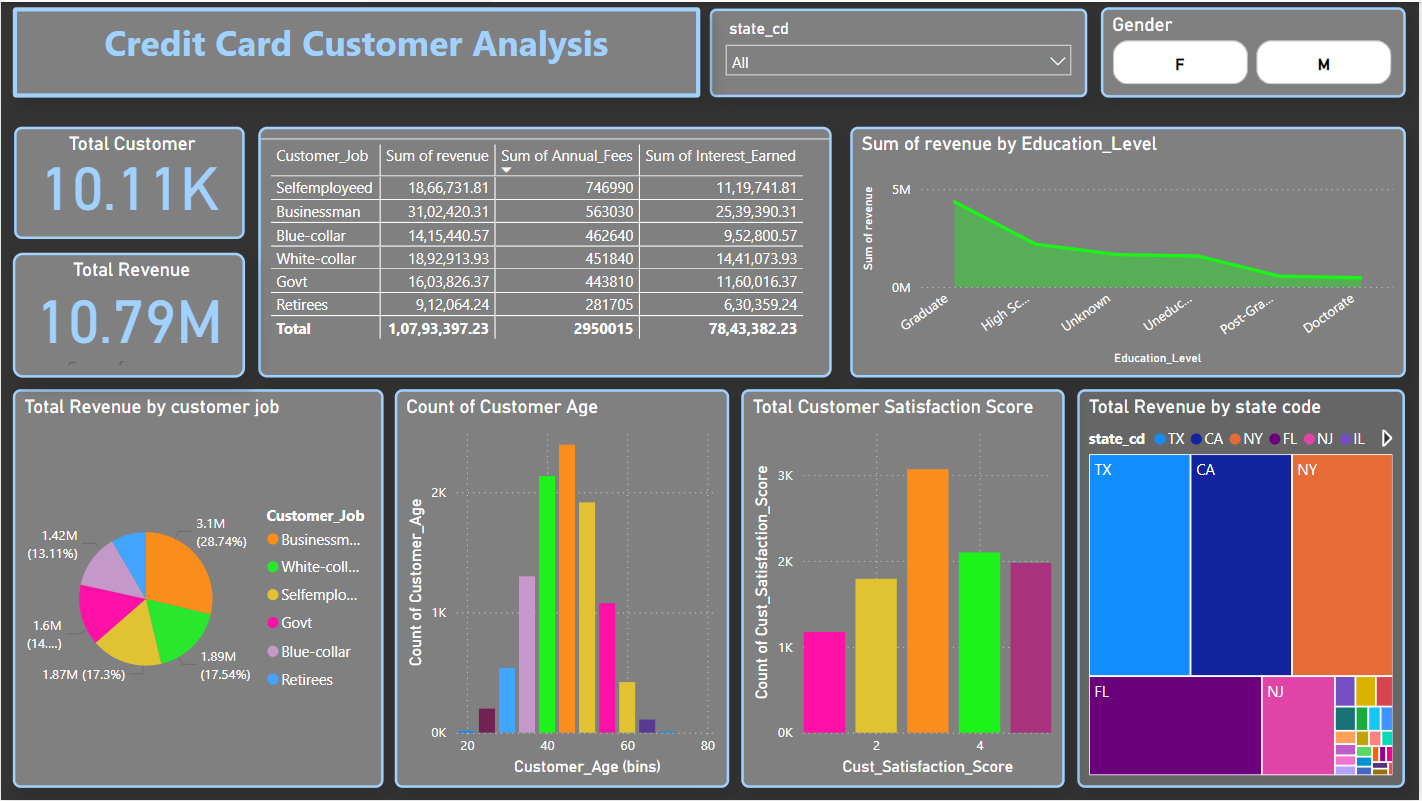

The page's visual inventory and layout, read from the dashboard file:
{"tool":"powerbi","page":{"name":"Page 1","canvas":[1280,720],"ordinal":0},"visuals":[{"type":"stackedAreaChart","fields":{"Category":["customer.Education_Level"],"Y":["Sum(credit_card.revenue)"]},"box":[766,113,501.3,226.1],"z":0},{"type":"tableEx","fields":{"Values":["customer.Customer_Job","Sum(credit_card.revenue)","Sum(credit_card.Annual_Fees)","Sum(credit_card.Interest_Earned)"]},"box":[232,113,517.6,226.1],"z":1000},{"type":"treemap","title":"Total Revenue by state code","fields":{"Group":["customer.state_cd"],"Values":["Sum(credit_card.revenue)"]},"box":[971.3,349.5,296,360],"z":2000},{"type":"pieChart","title":"Total Revenue by customer job","fields":{"Category":["customer.Customer_Job"],"Y":["Sum(credit_card.revenue)"]},"box":[10.4,349.5,334.7,360],"z":3000},{"type":"columnChart","title":"Count of Customer Age","fields":{"Y":["CountNonNull(customer.Customer_Age)"],"Category":["customer.Customer_Age (bins)"]},"box":[355.5,349.5,301.9,360],"z":4000},{"type":"lineClusteredColumnComboChart","title":"Total Customer Satisfaction Score","fields":{"Category":["customer.Cust_Satisfaction_Score"],"Y":["CountNonNull(customer.Cust_Satisfaction_Score)"]},"box":[667.8,349.5,291.5,360],"z":5000},{"type":"slicer","fields":{"Values":["customer.state_cd"]},"box":[639.6,5.9,340.6,80.3],"z":6000},{"type":"advancedSlicerVisual","fields":{"Values":["customer.Gender"]},"box":[992.1,4.5,275.2,81.8],"z":7000},{"type":"textbox","box":[10.4,4.5,620.2,81.8],"z":8000},{"type":"card","title":"Total Customer","fields":{"Values":["CountNonNull(credit_card.revenue)"]},"box":[11.9,113,208.2,101.1],"z":9000},{"type":"card","title":"Total Revenue","fields":{"Values":["Sum(credit_card.revenue)"]},"box":[10.4,226.1,209.7,113],"z":10000}]}

Visuals, with their boxes in screenshot pixels (x1, y1, x2, y2), scaled from the page's 1280x720 canvas onto the 1422x801 screenshot:
stackedAreaChart - customer.Education_Level x Sum(credit_card.revenue): {"left": 851, "top": 126, "right": 1408, "bottom": 377}
tableEx - customer.Customer_Job x Sum(credit_card.revenue): {"left": 258, "top": 126, "right": 833, "bottom": 377}
"Total Revenue by state code" treemap: {"left": 1079, "top": 389, "right": 1408, "bottom": 789}
"Total Revenue by customer job" pieChart: {"left": 12, "top": 389, "right": 383, "bottom": 789}
"Count of Customer Age" columnChart: {"left": 395, "top": 389, "right": 730, "bottom": 789}
"Total Customer Satisfaction Score" lineClusteredColumnComboChart: {"left": 742, "top": 389, "right": 1066, "bottom": 789}
slicer - customer.state_cd: {"left": 711, "top": 7, "right": 1089, "bottom": 96}
advancedSlicerVisual - customer.Gender: {"left": 1102, "top": 5, "right": 1408, "bottom": 96}
textbox: {"left": 12, "top": 5, "right": 701, "bottom": 96}
"Total Customer" card: {"left": 13, "top": 126, "right": 245, "bottom": 238}
"Total Revenue" card: {"left": 12, "top": 252, "right": 245, "bottom": 377}
